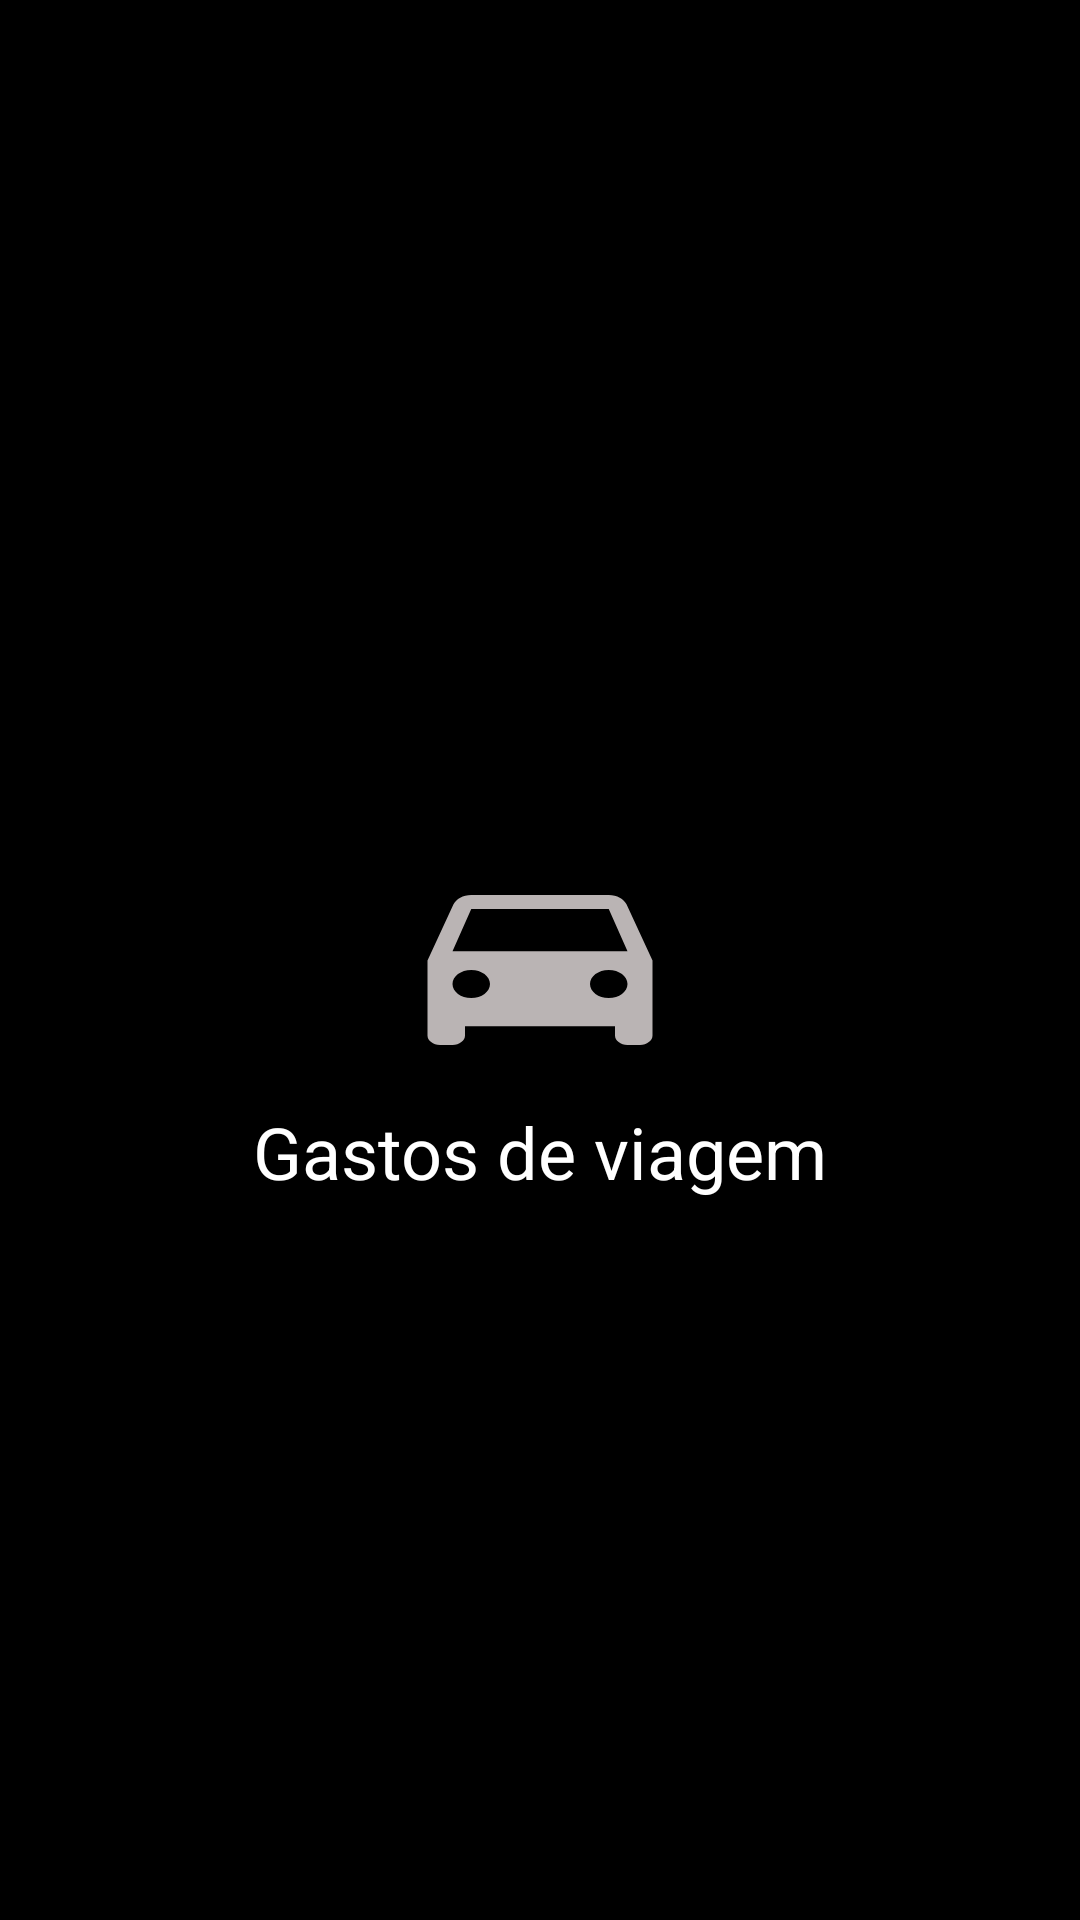

Where icons sit on this 1080x1920 app screen, as BBox(x1, y1, x2, y2):
car: BBox(427, 895, 653, 1045)
